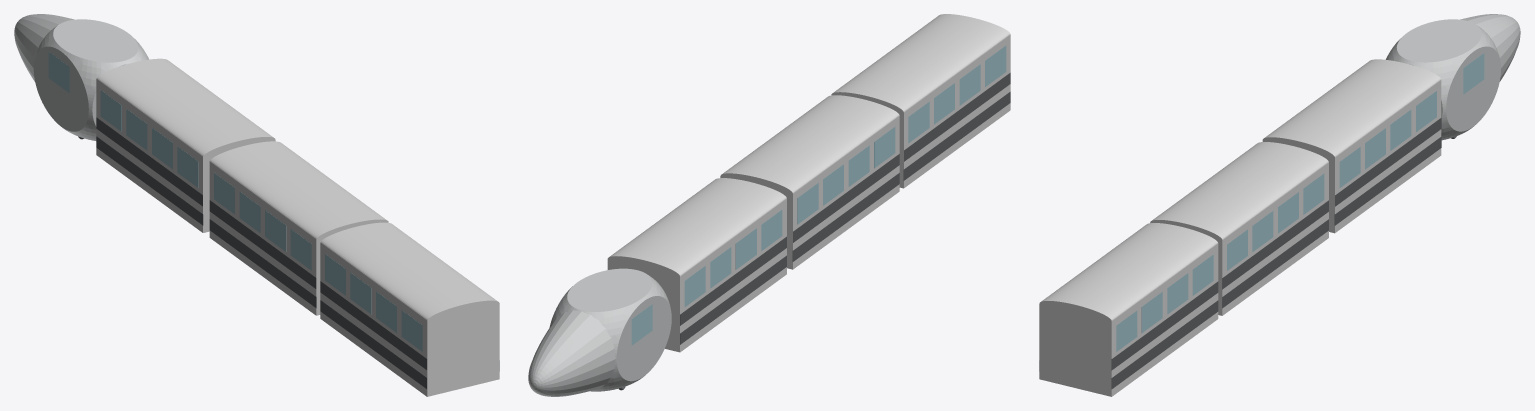
Rendered from Smashing Bojo-Elzing.glb.
3 renders of one model, left to right at view 1: azimuth 30°, elevation 25°; view 2: azimuth 150°, elevation 25°; view 3: azimuth 330°, elevation 25°, orthographic.
Visible parts, largest first — view 1: Mesh_Mesh_head_geo.001_lambert2SG.001; view 2: Mesh_Mesh_head_geo.001_lambert2SG.001; view 3: Mesh_Mesh_head_geo.001_lambert2SG.001.
Part boxes in pixels (x1,y1,x2,y2): Mesh_Mesh_head_geo.001_lambert2SG.001: (14, 14, 499, 396); Mesh_Mesh_head_geo.001_lambert2SG.001: (528, 14, 1010, 396); Mesh_Mesh_head_geo.001_lambert2SG.001: (1039, 14, 1520, 396).
Size of the model in its own units: 20.14 by 24.03 by 211.
